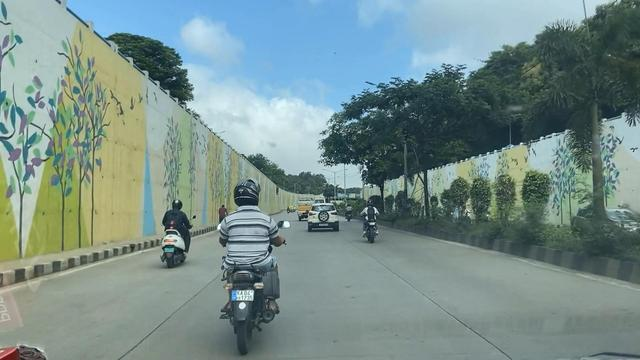LMV: (218, 179, 279, 338), (161, 204, 192, 266), (309, 202, 339, 233), (365, 197, 379, 241)
